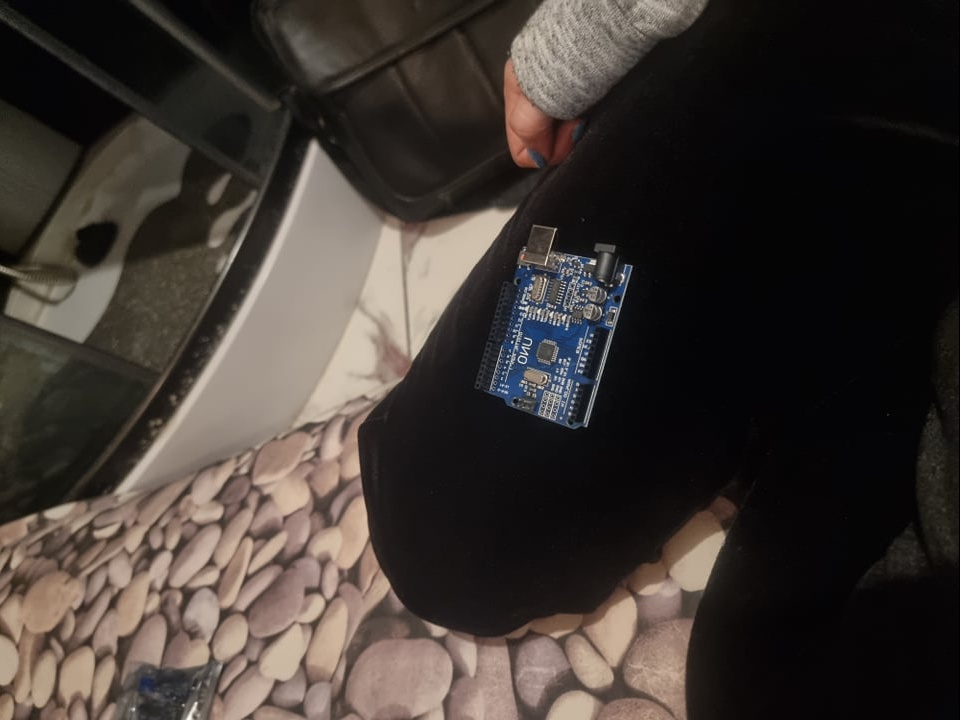UNO R3: (474, 224, 638, 439)
